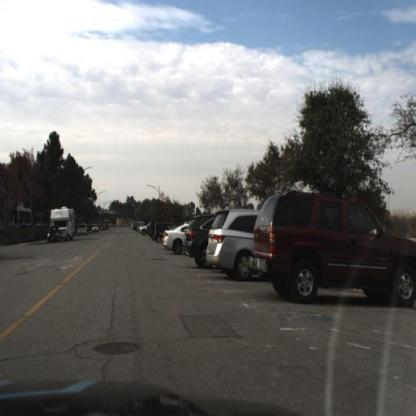car: (255, 182, 412, 315), (210, 205, 259, 281), (186, 211, 214, 270), (165, 221, 190, 256), (45, 224, 64, 248), (153, 221, 166, 247), (75, 221, 89, 237)
truck: (53, 207, 79, 242)
